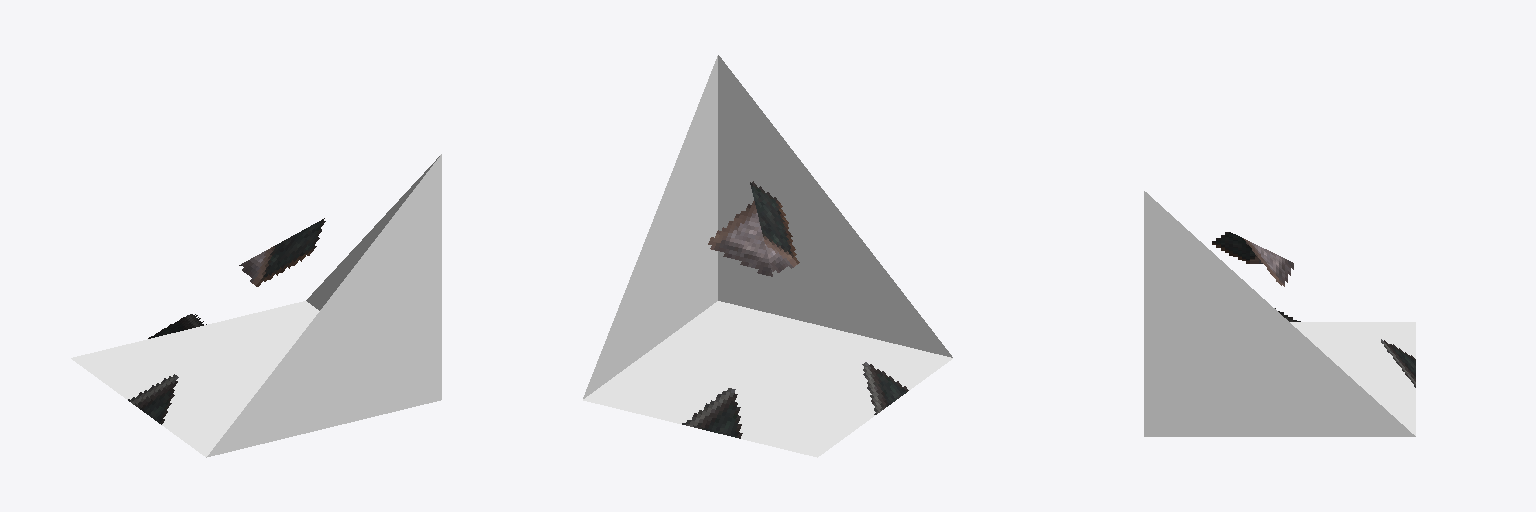
3 views of the same model, side by side, from view 1: azimuth 30°, elevation 25°; view 2: azimuth 150°, elevation 25°; view 3: azimuth 270°, elevation 25° (orthographic).
Parts seen in each view (by area): view 1: roof-high-side-corner; view 2: roof-high-side-corner; view 3: roof-high-side-corner.
Part boxes in pixels (x1,y1,x2,y2): roof-high-side-corner: (71, 154, 441, 457); roof-high-side-corner: (583, 55, 952, 457); roof-high-side-corner: (1144, 191, 1415, 436).
Size of the model in its own units: 1 by 1 by 1.
Materials: 3 (1 with a texture image).